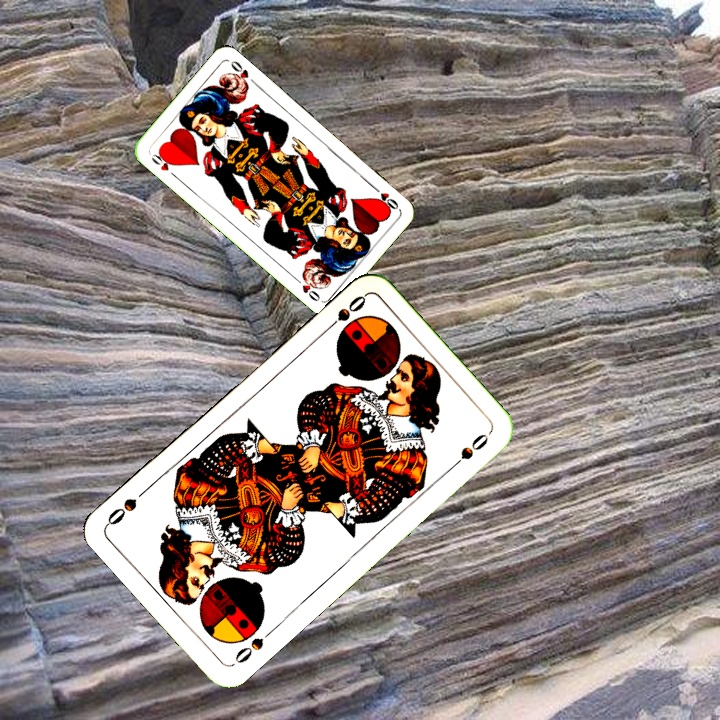HO: (146, 147, 179, 180), (367, 181, 401, 212)
SO: (320, 291, 369, 335), (230, 624, 277, 666)
